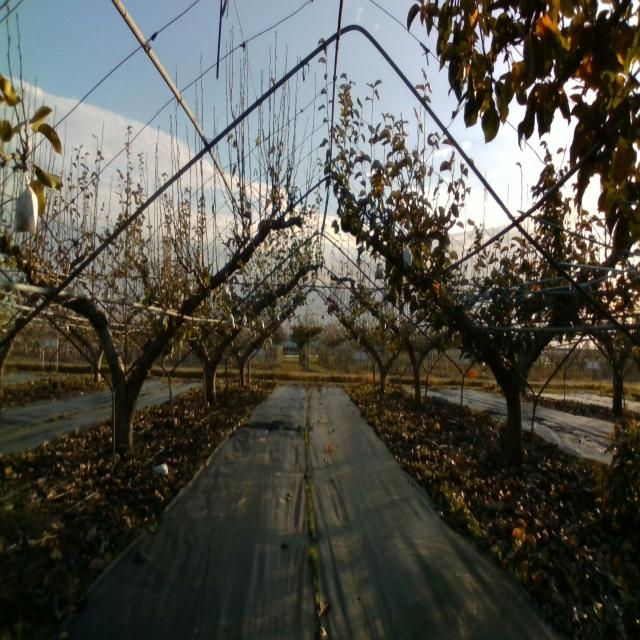pearbags: (12, 179, 38, 234)
